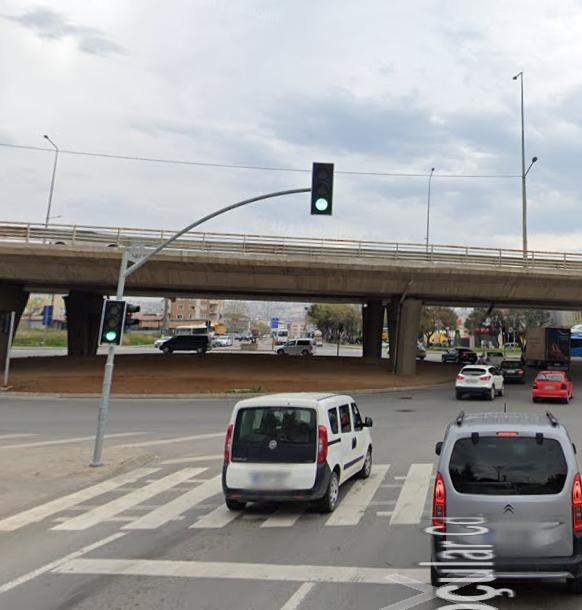greenlight: (309, 162, 335, 214), (103, 299, 124, 344)
